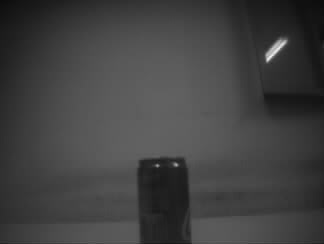Tin can: (135, 154, 191, 244)
